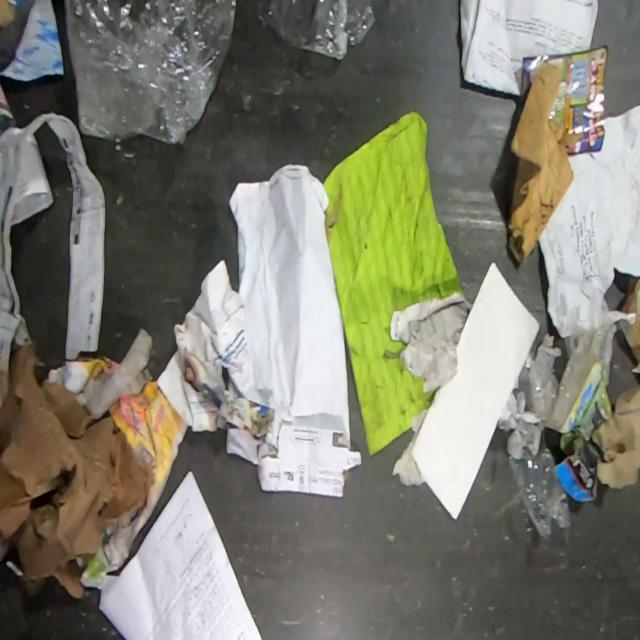cardboard: (0, 341, 155, 601), (506, 61, 584, 267)
soft_plastic: (62, 0, 237, 147), (498, 278, 620, 459), (260, 0, 377, 62), (508, 444, 571, 539)
